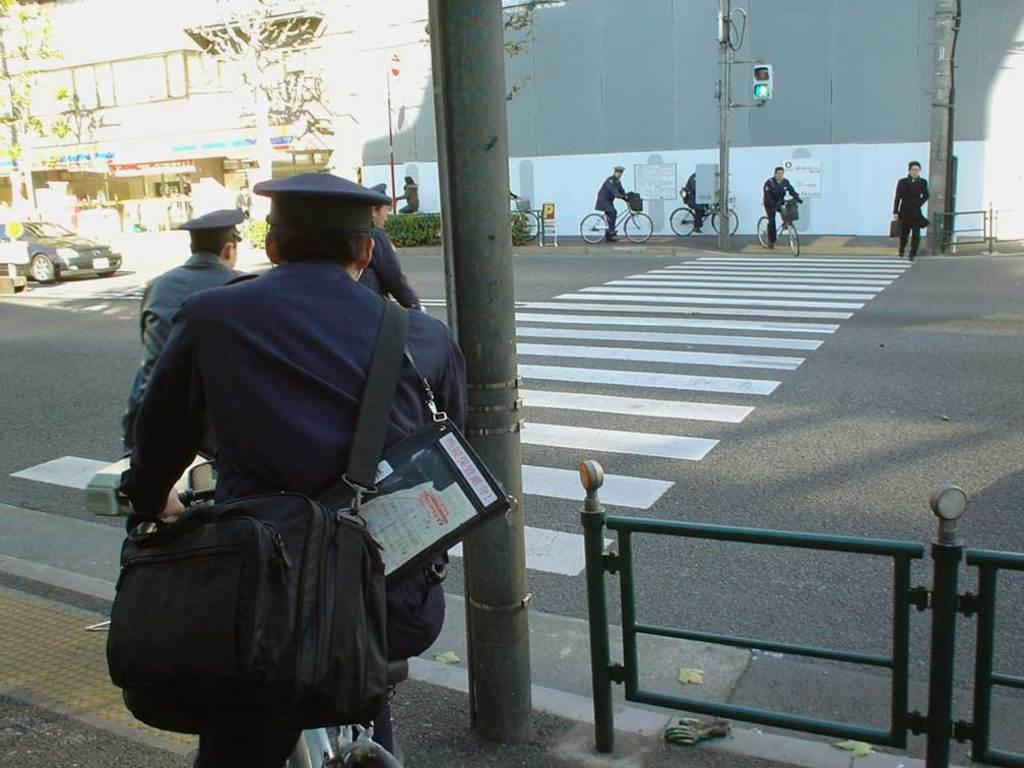Luggage-and-bags: (108, 285, 419, 735), (330, 337, 527, 590), (625, 189, 645, 215), (889, 213, 903, 239)
